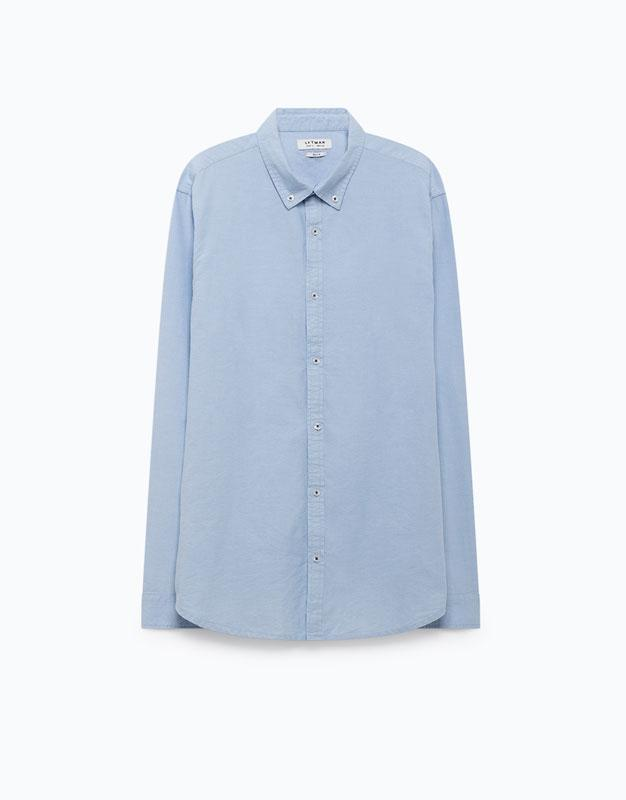teeshirt: (134, 106, 497, 663)
